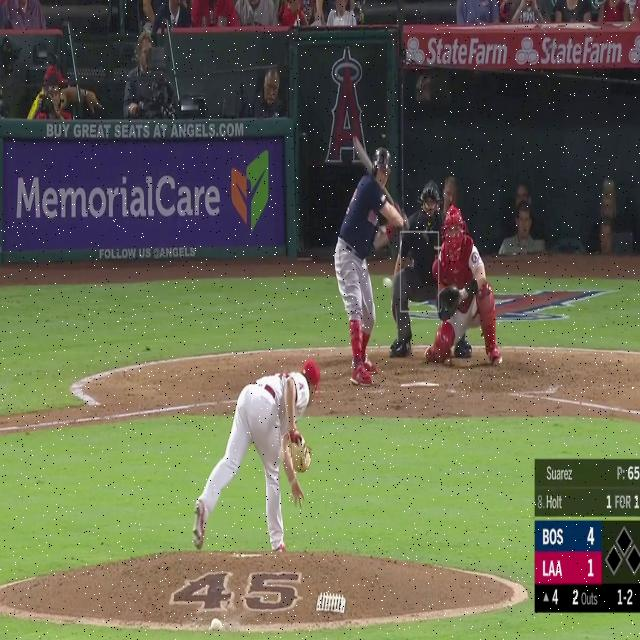baseball: (382, 278, 392, 290)
